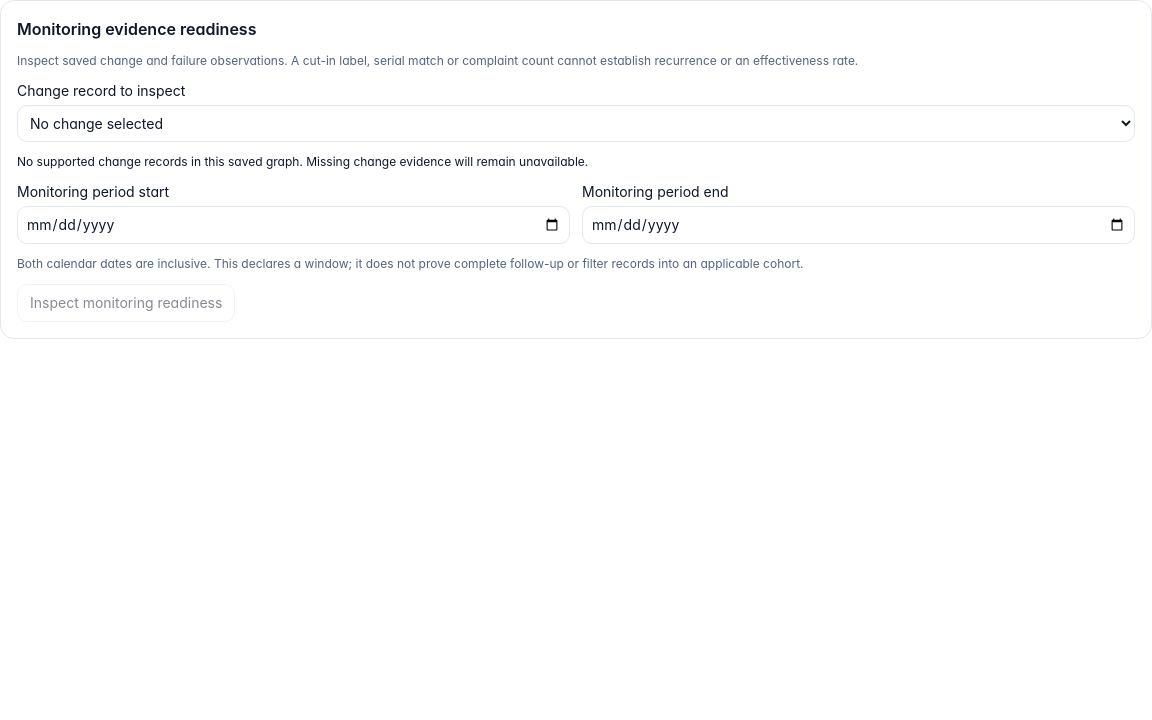
Test: requires explicit dates and action, shows gaps and inspects qualified source evidence
This screenshot has width=1152, height=720.
Expected: the button "Inspect monitoring readiness" is disabled, [17, 284, 235, 322]
Type "2026-01-01" into the date field labelled "Monitoring period start" at (294, 225), box [17, 206, 570, 244]
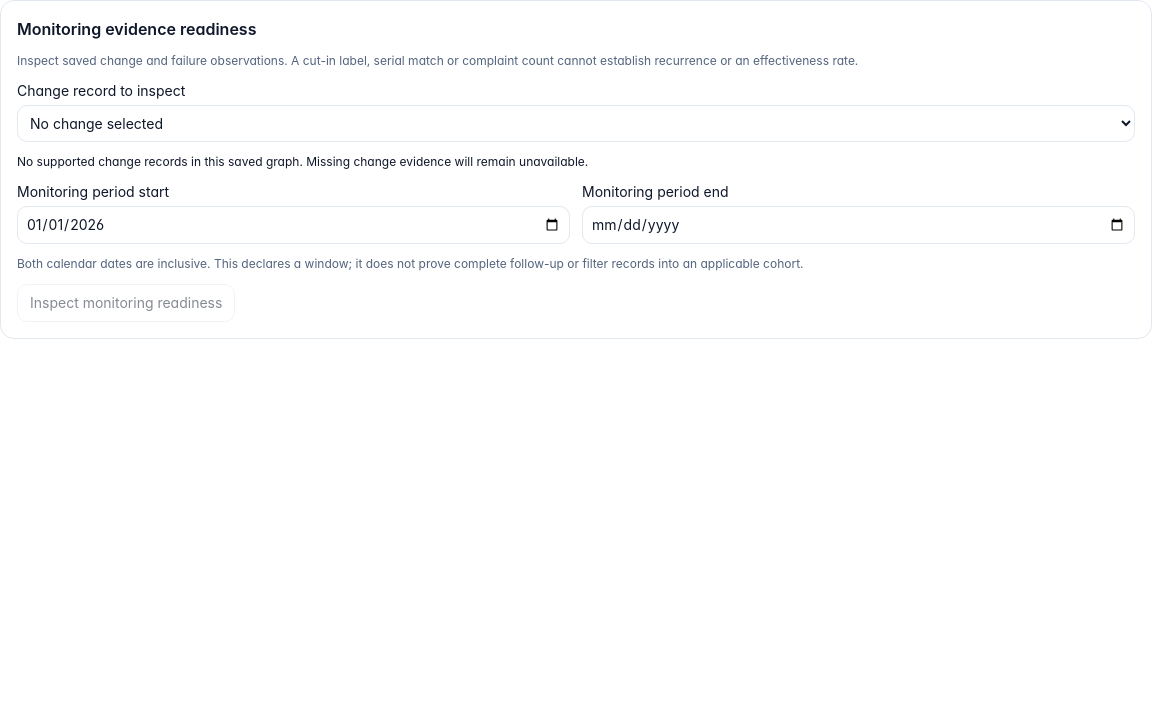
Type "2026-12-31" into the date field labelled "Monitoring period end" at (858, 225), box [582, 206, 1135, 244]
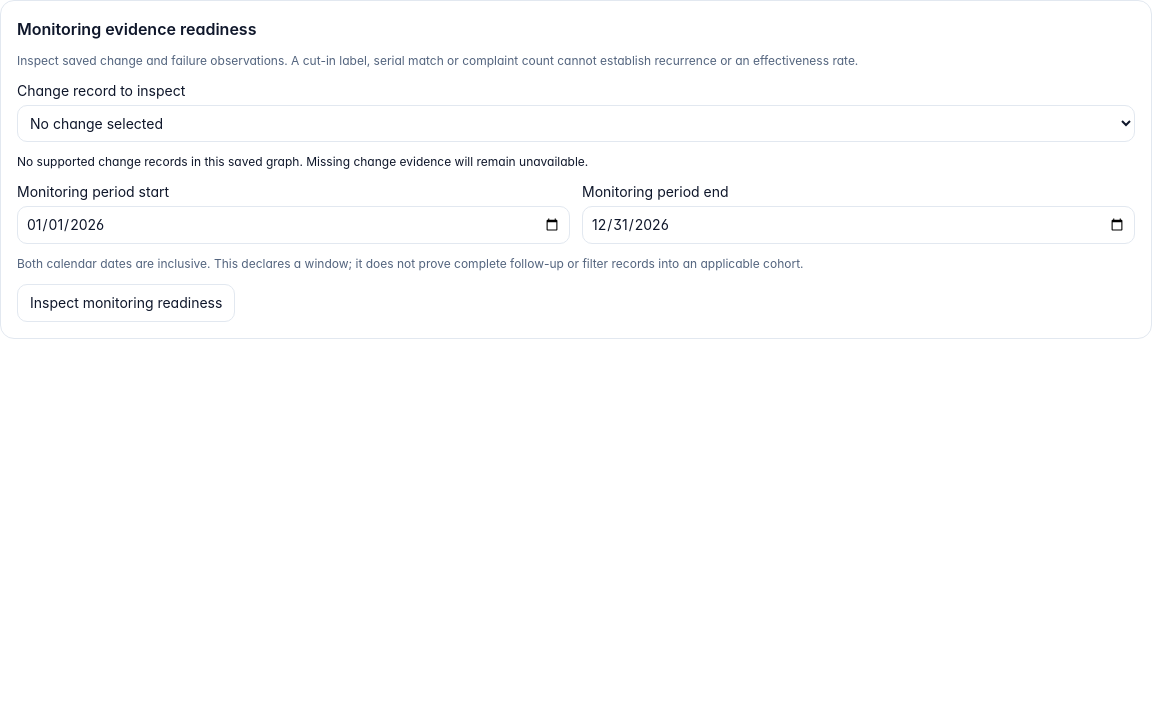
Click the button "Inspect monitoring readiness" at (126, 303), box [17, 284, 235, 322]
(page scrolled)
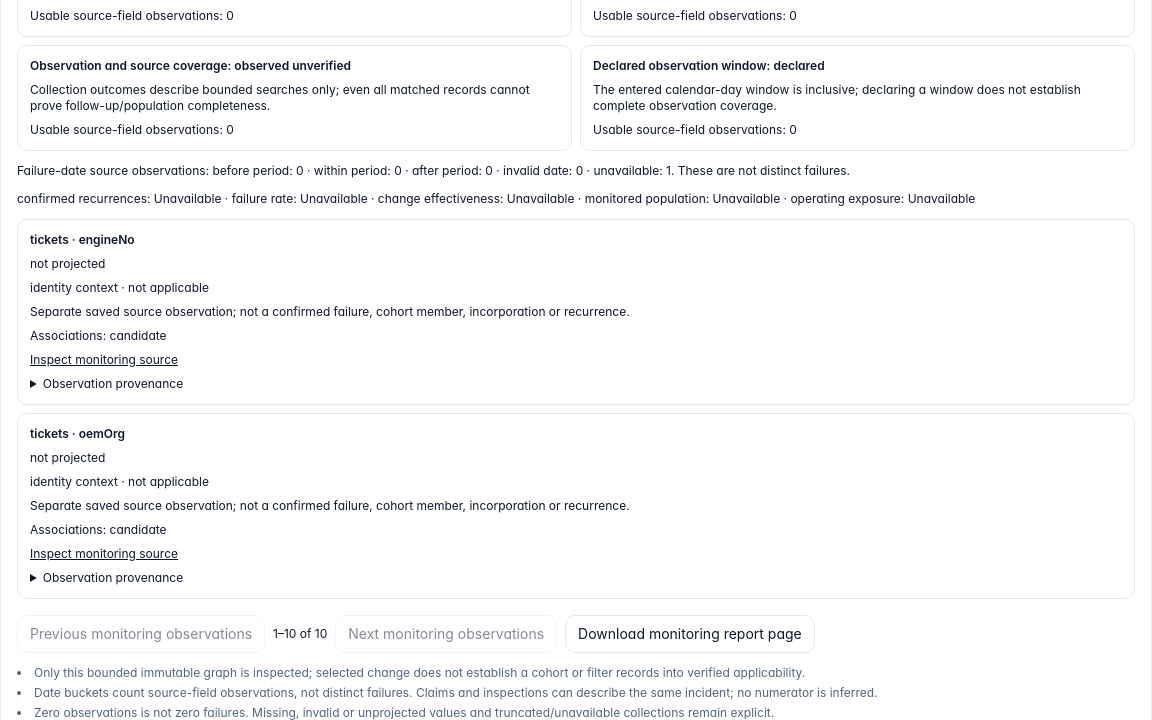
Expected: the text "failure rate: Unavailable" is shown, [17, 191, 975, 206]
Click the button "Inspect monitoring source" below "engineNo" at (104, 360), box [30, 352, 178, 368]
(page scrolled)
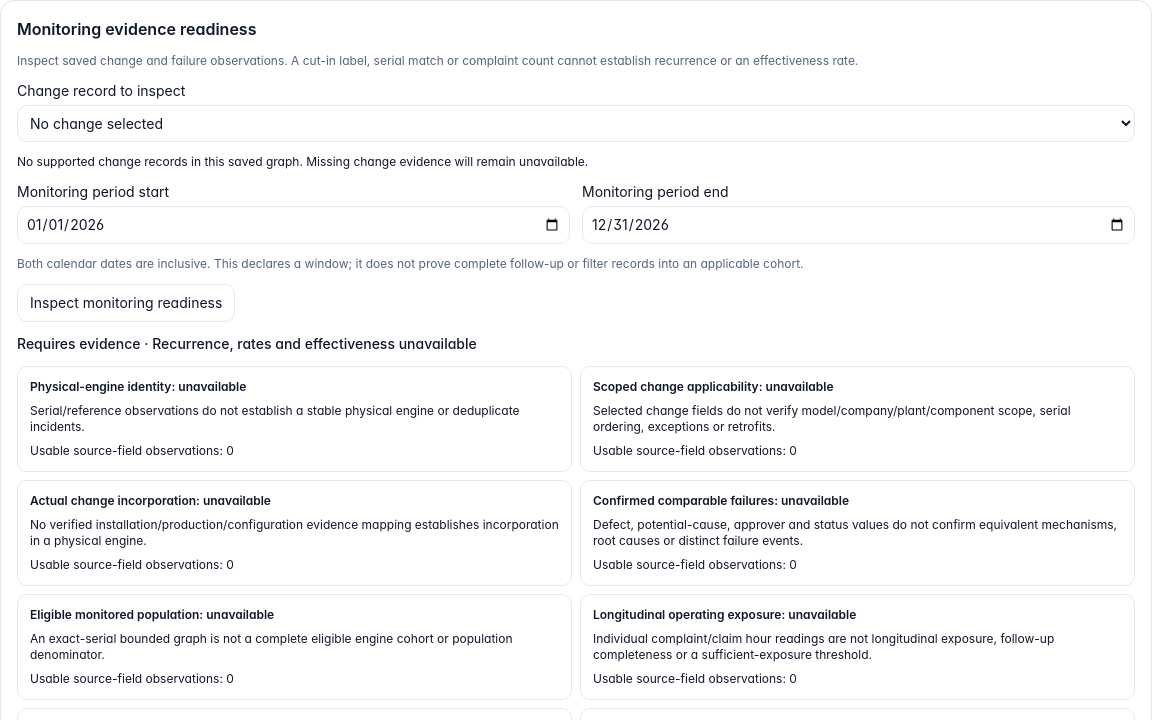
Type "2026-12-30" into the date field labelled "Monitoring period end" at (858, 225), box [582, 206, 1135, 244]
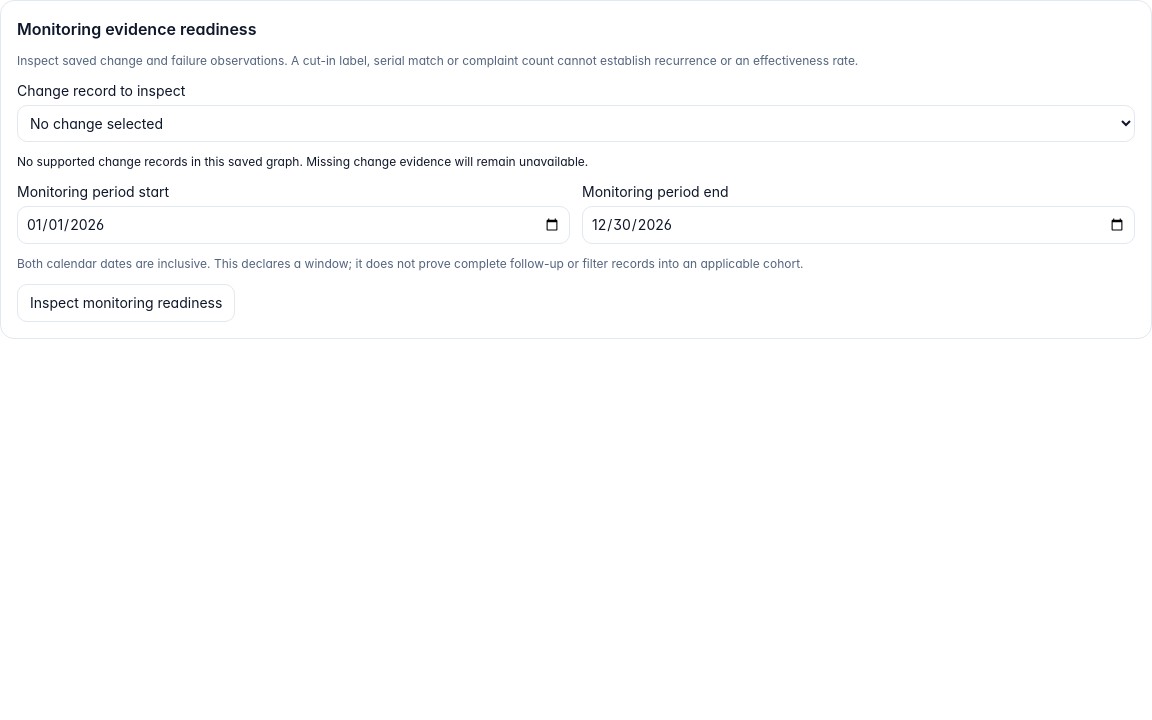
Expected: the text "Requires evidence · Recurrence, rates and effectiveness unavailable" is gone
